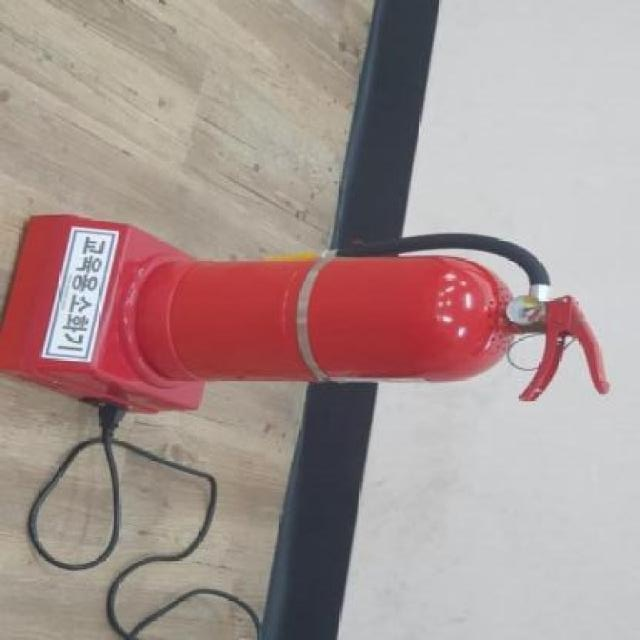fire extinguisher: (137, 232, 609, 401)
